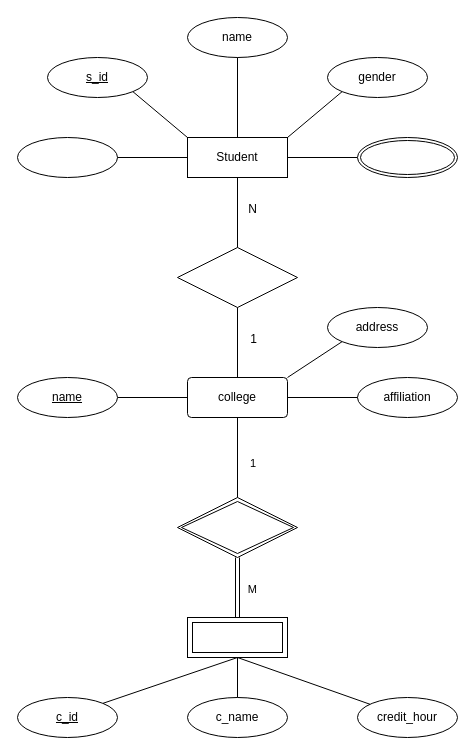
This 475x755 diagram has some shape labels left out. Each missing label, with the centre of its shape:
"age" goes at pixel 67 157.
"course" goes at pixel 237 637.
"enrolls_in" goes at pixel 237 277.
"phone" goes at pixel 407 157.
"provides" goes at pixel 237 527.
